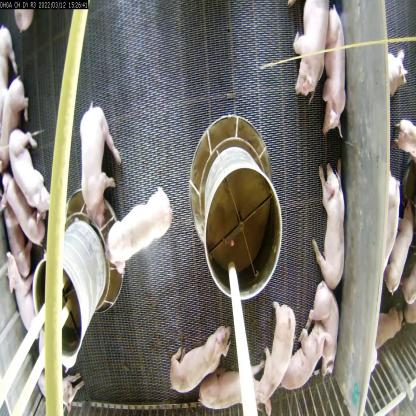Pig: (74, 82, 121, 217), (109, 183, 178, 273), (310, 10, 346, 140), (8, 116, 53, 220), (250, 296, 292, 394), (166, 316, 229, 381), (202, 366, 272, 416), (290, 0, 326, 97), (319, 163, 345, 292), (5, 252, 42, 342), (312, 287, 344, 381), (283, 322, 324, 392), (1, 177, 42, 242), (0, 73, 26, 165), (36, 365, 79, 415), (0, 196, 29, 267)
